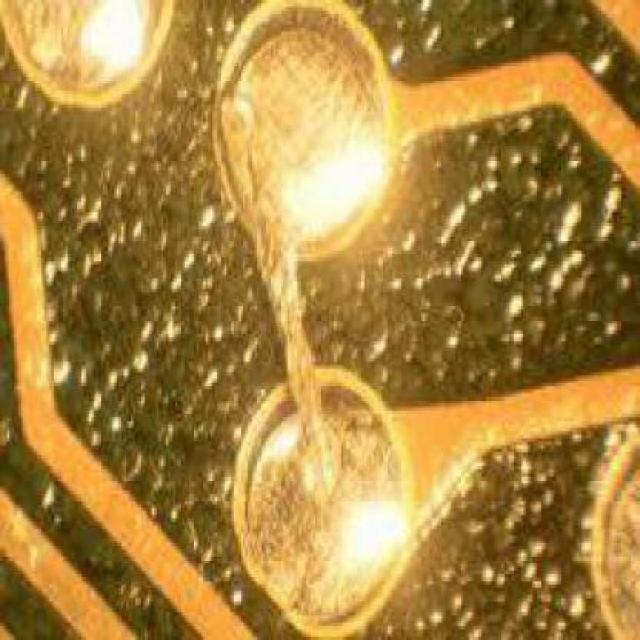Soldering shorted: (204, 0, 418, 620)
